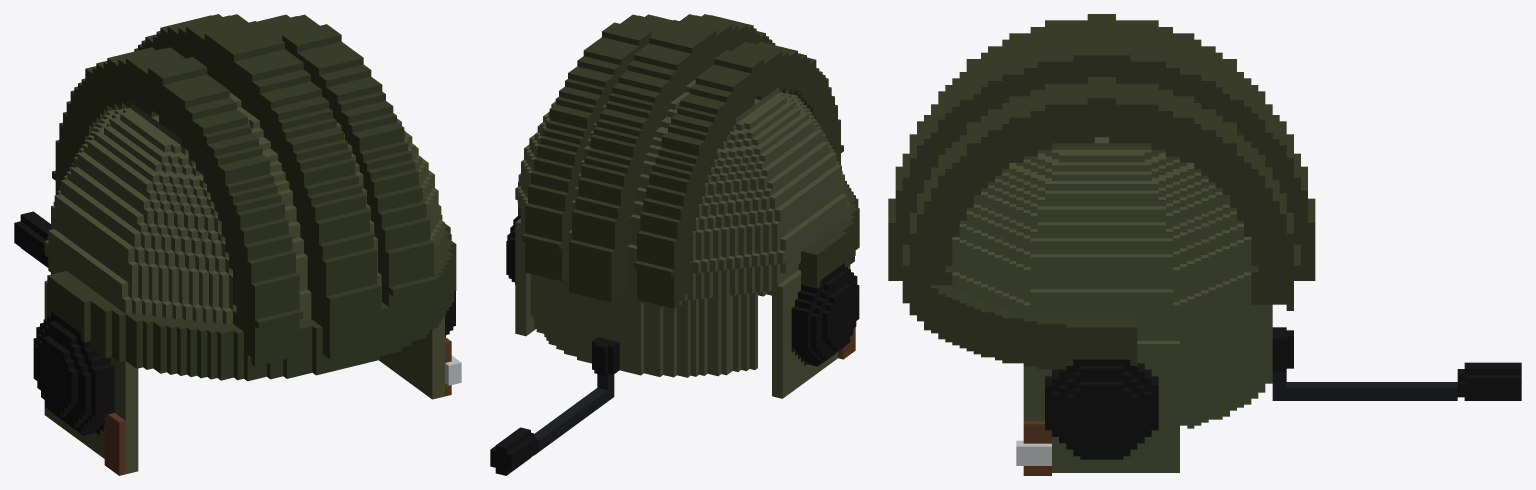
Rendered from tank_crew_helmet.glb.
The picture shows the model from 3 angles, left to right: view 1: azimuth 30°, elevation 25°; view 2: azimuth 150°, elevation 25°; view 3: azimuth 270°, elevation 25°; orthographic projection. The views are drawn at different scales.
Parts seen in each view (by area): view 1: tank_crew_helmet:compound; view 2: tank_crew_helmet:compound; view 3: tank_crew_helmet:compound.
Part boxes in pixels (bbox=[...]): tank_crew_helmet:compound: bbox=[14, 14, 461, 475]; tank_crew_helmet:compound: bbox=[490, 14, 859, 475]; tank_crew_helmet:compound: bbox=[888, 14, 1521, 475].
Size of the model in its own units: 0.24 by 0.22 by 0.356.
